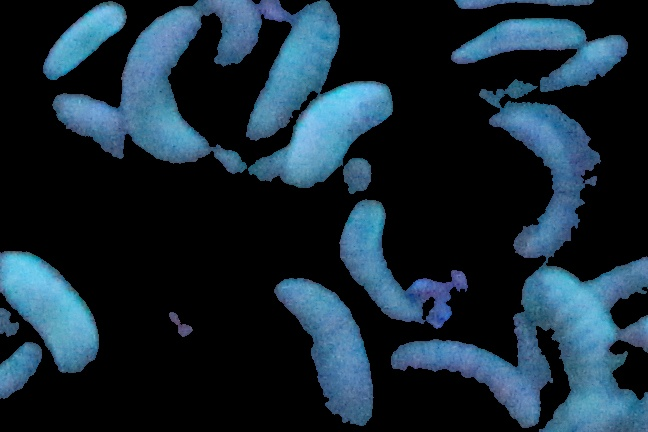larvae: (490, 98, 610, 271), (272, 278, 376, 426), (117, 1, 205, 169), (516, 267, 624, 397), (388, 337, 539, 426), (244, 1, 341, 138), (1, 248, 99, 373), (277, 82, 394, 186), (333, 198, 425, 323), (451, 17, 592, 67), (39, 1, 128, 79), (536, 37, 633, 91), (50, 92, 119, 165), (196, 1, 260, 77), (1, 341, 43, 402)
